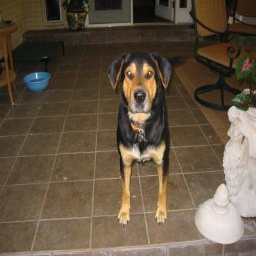dog: (107, 51, 175, 227)
